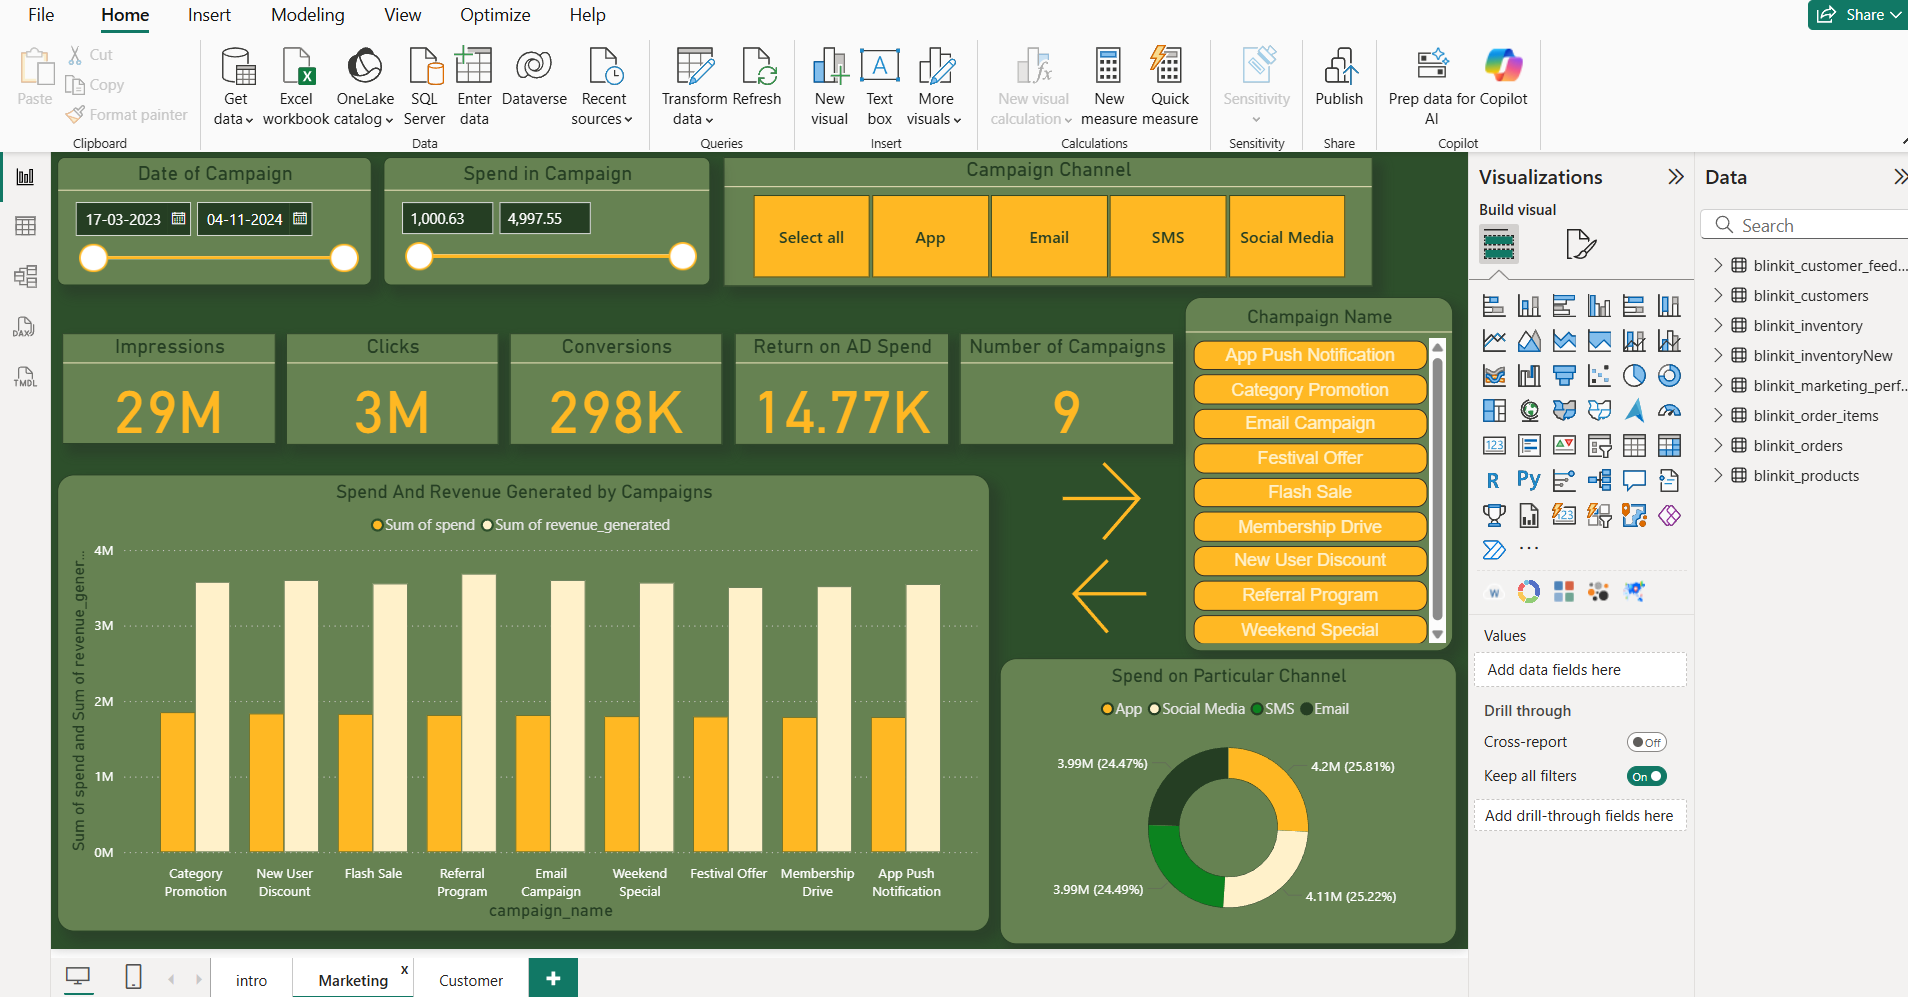

What the dashboard file says about the page in this screenshot:
{"tool":"powerbi","page":{"name":"Marketing","canvas":[1280,720],"ordinal":1},"visuals":[{"type":"slicer","title":"Campaign Channel","fields":{"Values":["blinkit_marketing_performance.channel"]},"box":[607.1,4.3,586.6,116.5],"z":0},{"type":"slicer","title":"Date of Campaign","fields":{"Values":["blinkit_marketing_performance.date"]},"box":[5.6,4.5,283.9,116.3],"z":1000},{"type":"slicer","title":"Spend in Campaign","fields":{"Values":["blinkit_marketing_performance.spend"]},"box":[300.7,4.5,295.1,116.3],"z":2000},{"type":"clusteredColumnChart","title":"Spend And Revenue Generated by Campaigns","fields":{"Category":["blinkit_marketing_performance.campaign_name"],"Y":["Sum(blinkit_marketing_performance.spend)","Sum(blinkit_marketing_performance.revenue_generated)"]},"box":[5.4,291.2,842.2,413],"z":3000},{"type":"card","title":"Impressions","fields":{"Values":["Sum(blinkit_marketing_performance.impressions)"]},"box":[10.4,163.6,193,100],"z":4000},{"type":"card","title":"Clicks","fields":{"Values":["Sum(blinkit_marketing_performance.clicks)"]},"box":[212.4,163.2,192.3,100.6],"z":5000},{"type":"card","title":"Conversions","fields":{"Values":["Sum(blinkit_marketing_performance.conversions)"]},"box":[414.7,163.2,192.3,100.6],"z":6000},{"type":"ChicletSlicer1448559807354","title":"Champaign Name","fields":{"Category":["blinkit_marketing_performance.campaign_name"]},"box":[1024,130.8,242.6,319.7],"z":7000},{"type":"card","title":"Return on AD Spend","fields":{"Values":["Sum(blinkit_marketing_performance.roas)"]},"box":[618.2,163.2,193.4,100.6],"z":8000},{"type":"card","title":"Number of Campaigns","fields":{"Values":["Count(blinkit_marketing_performance.campaign_name)"]},"box":[820.5,163.2,193.4,100.6],"z":9000},{"type":"donutChart","title":"Spend on Particular Channel","fields":{"Y":["Sum(blinkit_marketing_performance.spend)"],"Category":["blinkit_marketing_performance.channel"]},"box":[857.4,457.2,412.5,258.2],"z":10000},{"type":"actionButton","box":[835.7,335.4,242.6,132.6],"z":11000},{"type":"actionButton","box":[857.3,264.2,182.2,102.4],"z":12000}]}

Visuals, with their boxes on the page's 1280x720 design canvas (x1, y1, x2, y2). These are canvas units, not pixel positions in the 1908x997 screenshot, which may show the page scaled, cropped or inside an application window:
"Campaign Channel" slicer: left=607, top=4, right=1194, bottom=121
"Date of Campaign" slicer: left=6, top=4, right=290, bottom=121
"Spend in Campaign" slicer: left=301, top=4, right=596, bottom=121
"Spend And Revenue Generated by Campaigns" clusteredColumnChart: left=5, top=291, right=848, bottom=704
"Impressions" card: left=10, top=164, right=203, bottom=264
"Clicks" card: left=212, top=163, right=405, bottom=264
"Conversions" card: left=415, top=163, right=607, bottom=264
"Champaign Name" ChicletSlicer1448559807354: left=1024, top=131, right=1267, bottom=450
"Return on AD Spend" card: left=618, top=163, right=812, bottom=264
"Number of Campaigns" card: left=820, top=163, right=1014, bottom=264
"Spend on Particular Channel" donutChart: left=857, top=457, right=1270, bottom=715
actionButton: left=836, top=335, right=1078, bottom=468
actionButton: left=857, top=264, right=1040, bottom=367
